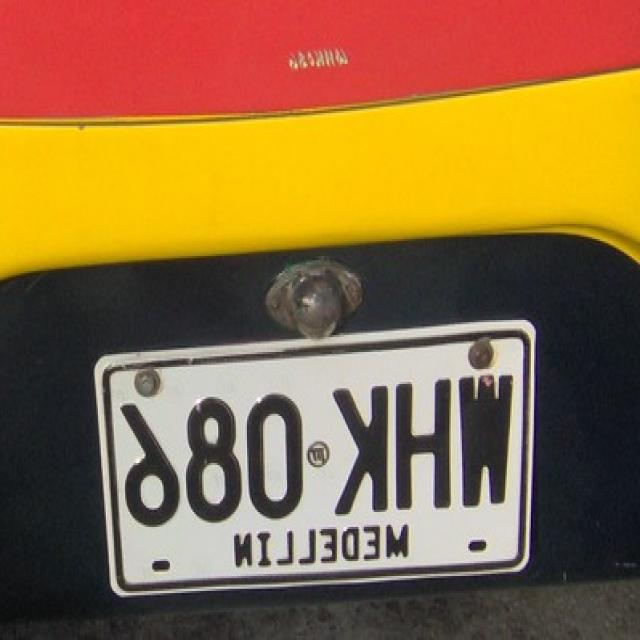placas: (109, 363, 519, 524)
